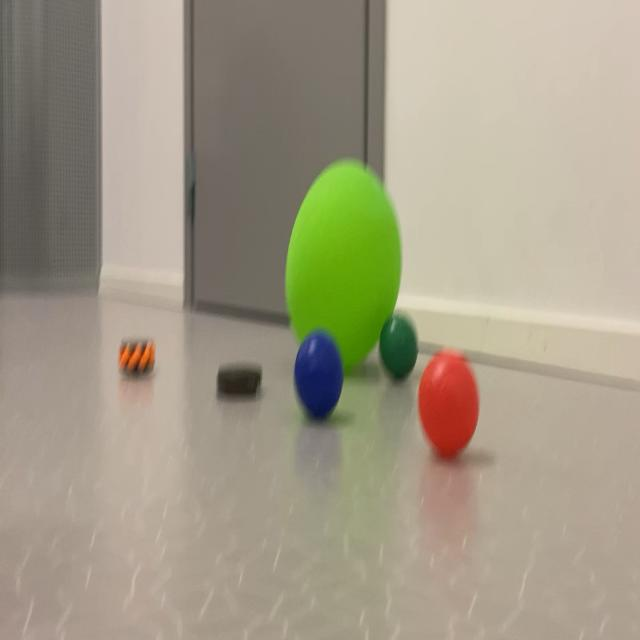7: (413, 342, 482, 486)
green ball: (282, 319, 348, 437)
red ball: (373, 309, 427, 392)
